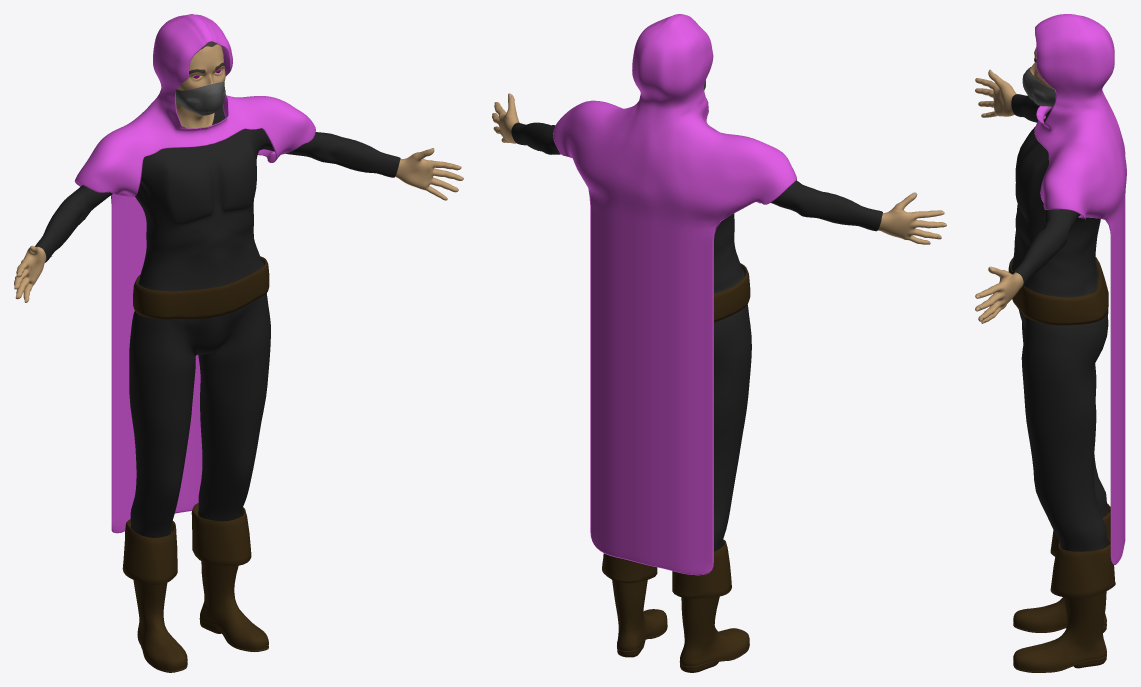
The model's file is rogue_purple.fbx.
3 renders of one model, left to right at view 1: azimuth 30°, elevation 25°; view 2: azimuth 150°, elevation 25°; view 3: azimuth 270°, elevation 25°, orthographic.
Visible parts, largest first — view 1: rogue:Rogue_Mesh, rogue:Hood, rogue:Mask; view 2: rogue:Hood, rogue:Rogue_Mesh; view 3: rogue:Rogue_Mesh, rogue:Hood, rogue:Mask.
Boxes of the visible parts, x1,y1,x2,y2 form: rogue:Rogue_Mesh: [14, 42, 463, 672]; rogue:Hood: [74, 14, 315, 533]; rogue:Mask: [175, 81, 225, 115]; rogue:Hood: [553, 14, 796, 575]; rogue:Rogue_Mesh: [492, 93, 946, 672]; rogue:Rogue_Mesh: [975, 47, 1115, 672]; rogue:Hood: [1034, 14, 1126, 565]; rogue:Mask: [1022, 67, 1055, 106].
Bounding box in the file's own units: 8.9 × 11.85 × 2.59.
